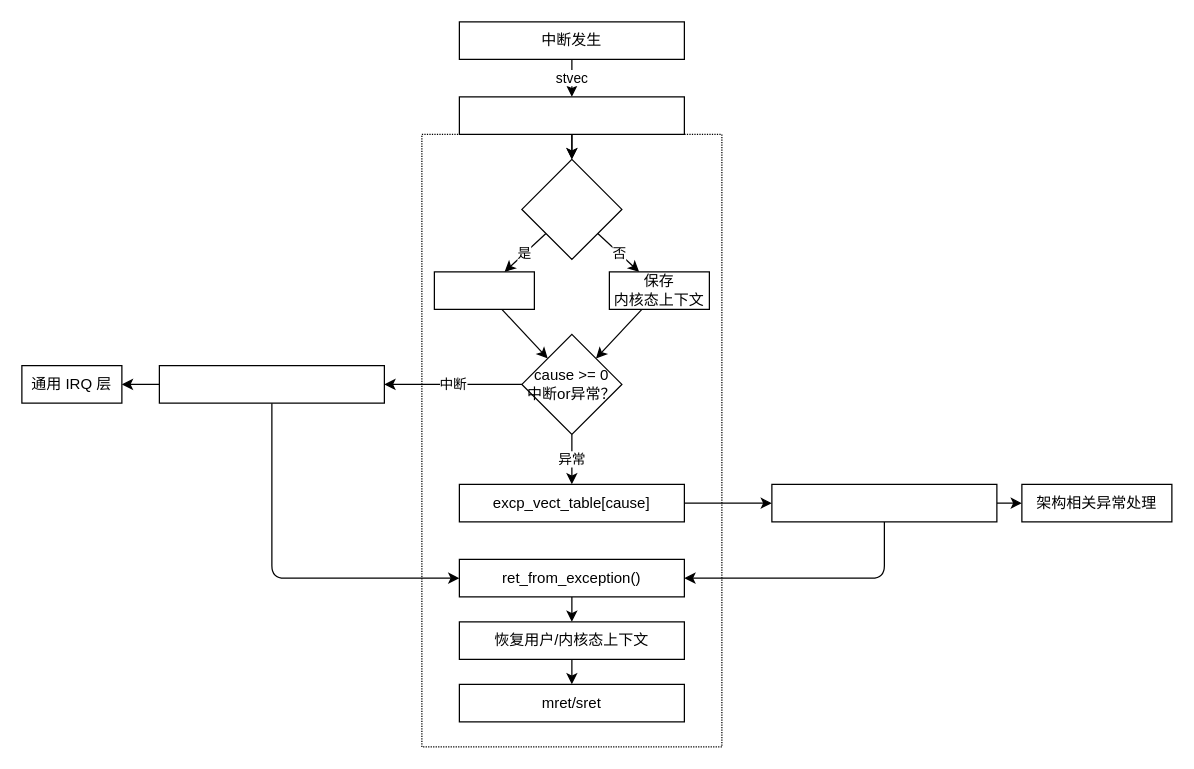
Some shapes in this 1194 by 769 pixel diagram are drawn without their labels. Here are the shapes that lost their labels. From the top down, the centre of each, then its label:
At (x=571, y=115): "handle_exception() arch/riscv/kernel/entry.S".
At (x=571, y=208): "sscratch 是否来自用户空间".
At (x=483, y=290): "保存 用户态上下文".
At (x=271, y=383): "do_irq() arch/riscv/kernel/traps.c".
At (x=884, y=502): "do_*() arch/riscv/kernel/traps .c".
